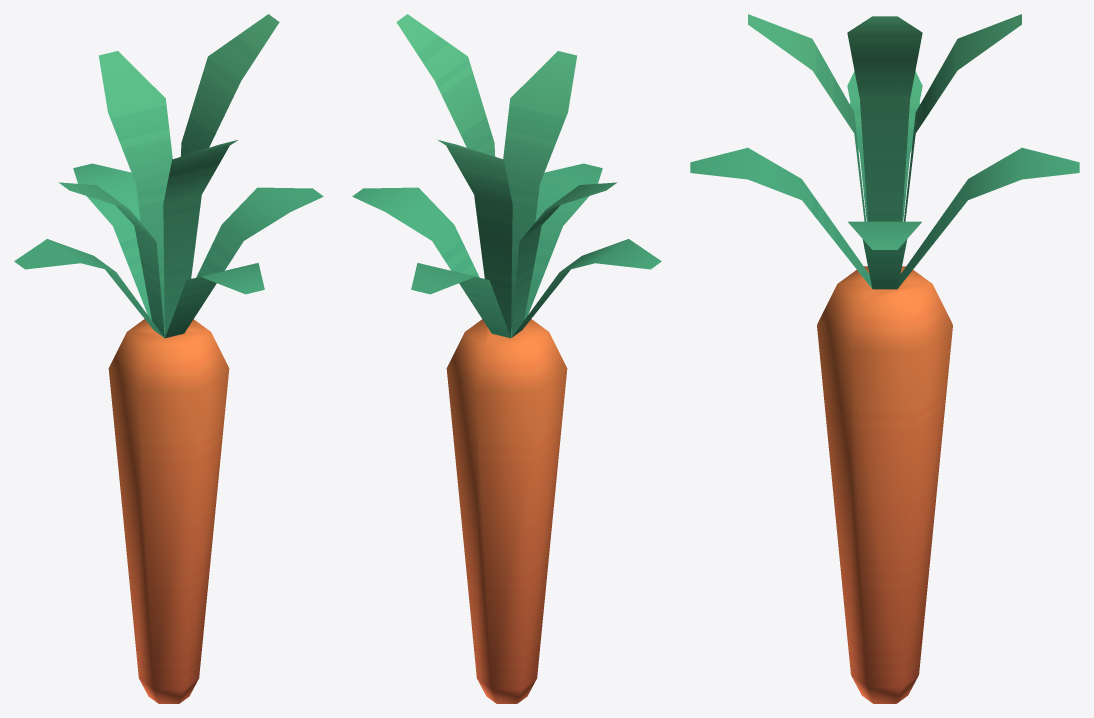
File: carrot.glb
The picture shows the model from 3 angles, left to right: view 1: azimuth 30°, elevation 25°; view 2: azimuth 150°, elevation 25°; view 3: azimuth 270°, elevation 25°; orthographic projection. The views are drawn at different scales.
Visible parts, largest first — view 1: carrot; view 2: carrot; view 3: carrot.
Part boxes in pixels (<box>): carrot: <box>14,14,323,703</box>; carrot: <box>352,14,661,703</box>; carrot: <box>690,14,1079,703</box>.
Size of the model in its own units: 0.3431 by 0.7163 by 0.3431.
Materials: 1 (1 with a texture image).
